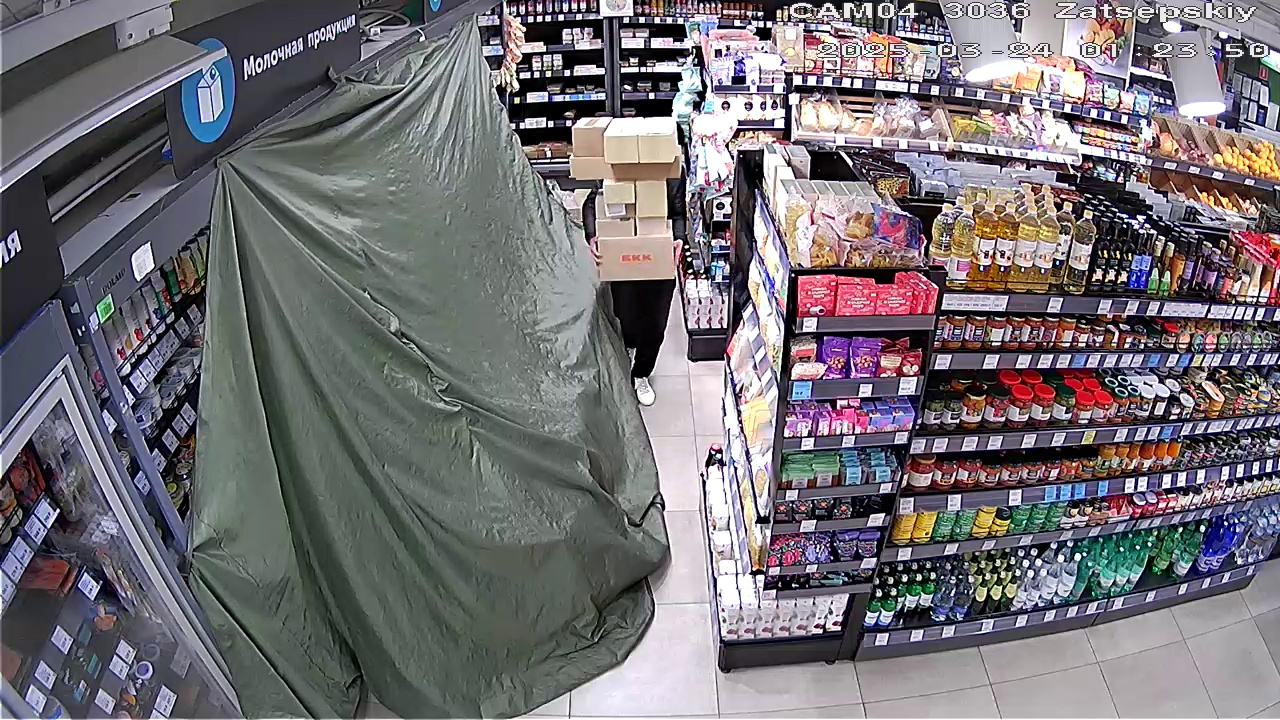dome: (185, 32, 671, 707)
